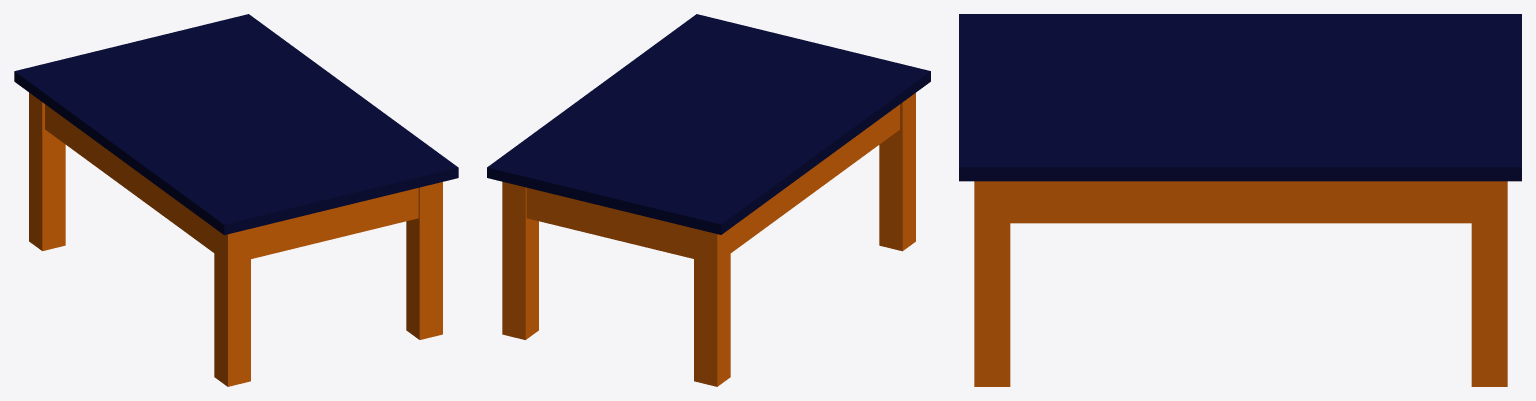
File: cofee_table.fbx
3 renders of one model, left to right at view 1: azimuth 30°, elevation 25°; view 2: azimuth 150°, elevation 25°; view 3: azimuth 270°, elevation 25°, orthographic. The views are drawn at different scales.
Parts seen in each view (by area): view 1: Platen, Beina, Cube; view 2: Platen, Beina, Cube; view 3: Platen, Cube, Beina.
Boxes of the visible parts, x1,y1,x2,y2 form: Platen: (14, 14, 458, 235); Beina: (29, 92, 442, 386); Cube: (45, 104, 418, 258); Platen: (487, 14, 930, 234); Beina: (502, 93, 915, 386); Cube: (526, 104, 899, 258); Platen: (959, 14, 1521, 181); Cube: (1010, 181, 1471, 223); Beina: (974, 181, 1507, 386).
Size of the model in its own units: 268 by 184 by 416.
